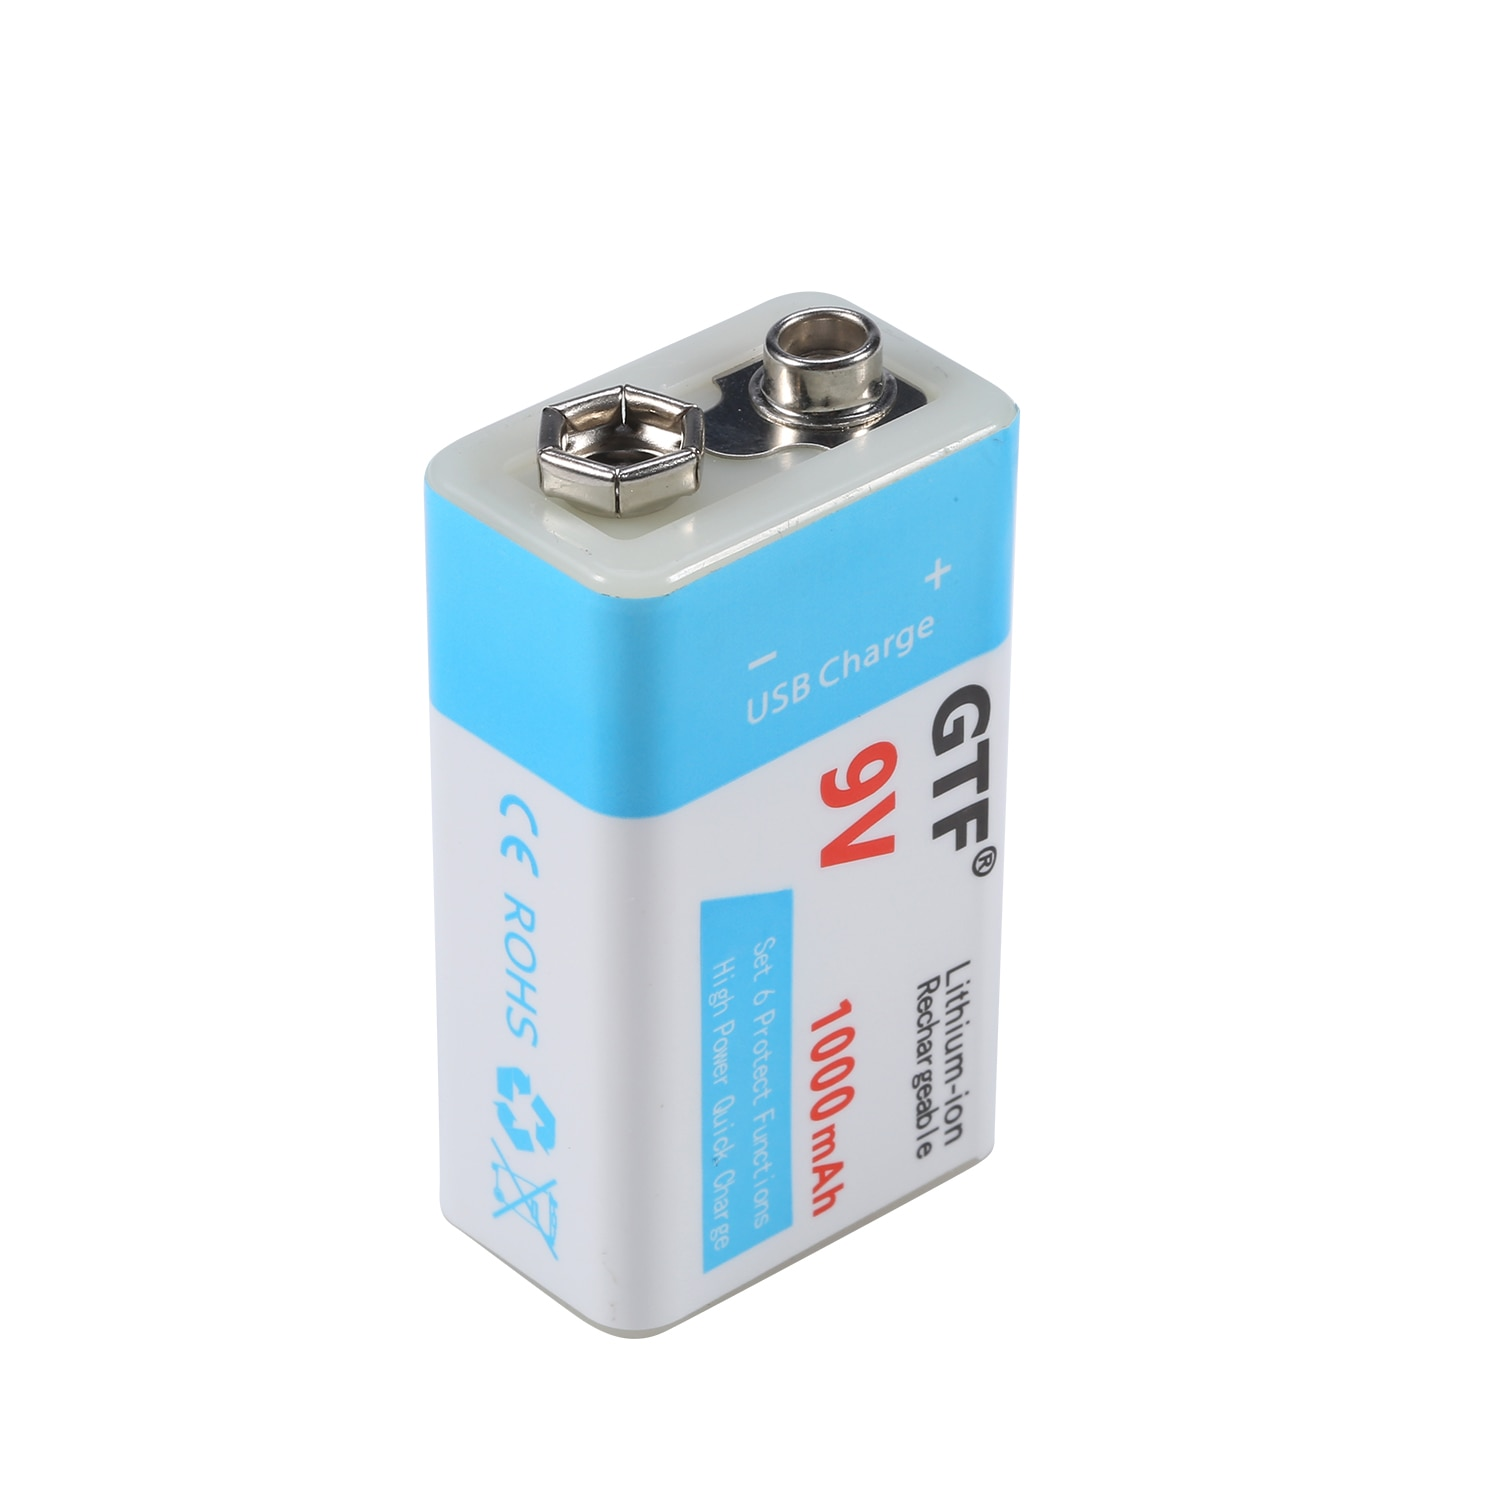Battery: (412, 284, 1023, 1346)
